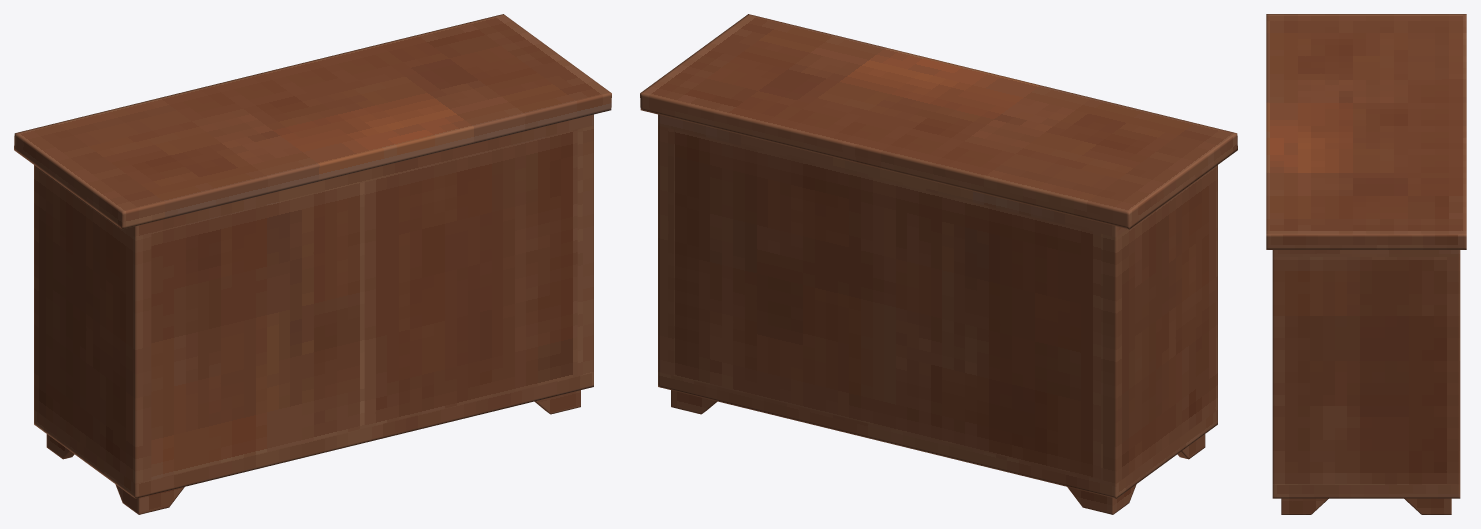
Rendered from a_com_house_a01_shelf01_brown.gltf.
3 renders of one model, left to right at view 1: azimuth 30°, elevation 25°; view 2: azimuth 150°, elevation 25°; view 3: azimuth 270°, elevation 25°, orthographic. The views are drawn at different scales.
Visible parts, largest first — view 1: a_com_house_a01_shelf01_mesh1_shape:a_com_house_a01_shelf01_; view 2: a_com_house_a01_shelf01_mesh1_shape:a_com_house_a01_shelf01_; view 3: a_com_house_a01_shelf01_mesh1_shape:a_com_house_a01_shelf01_.
Boxes of the visible parts, left/top/right/bottom form: a_com_house_a01_shelf01_mesh1_shape:a_com_house_a01_shelf01_: left=14, top=14, right=611, bottom=514; a_com_house_a01_shelf01_mesh1_shape:a_com_house_a01_shelf01_: left=640, top=14, right=1237, bottom=514; a_com_house_a01_shelf01_mesh1_shape:a_com_house_a01_shelf01_: left=1266, top=14, right=1466, bottom=514.
Bounding box in the file's own units: 1.55 × 0.9507 × 0.5944.
1 material, 1 textured.
